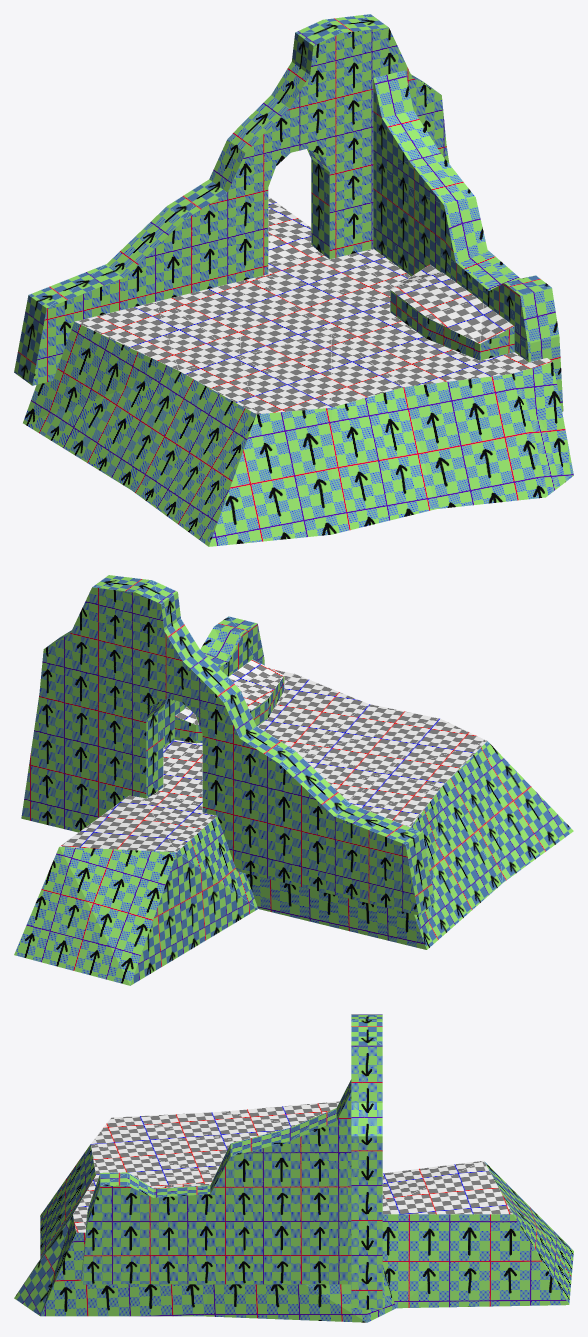
Rendered from generic_ruins1.obj.
The picture shows the model from 3 angles, top to bottom: view 1: azimuth 30°, elevation 25°; view 2: azimuth 150°, elevation 25°; view 3: azimuth 270°, elevation 25°; orthographic projection. The views are drawn at different scales.
Visible parts, largest first — view 1: ruin1; view 2: ruin1; view 3: ruin1.
Boxes of the visible parts, bbox=[...] form: ruin1: bbox=[14, 14, 573, 546]; ruin1: bbox=[14, 575, 573, 985]; ruin1: bbox=[14, 1014, 573, 1322].
Size of the model in its own units: 27.33 by 19.35 by 35.77.
